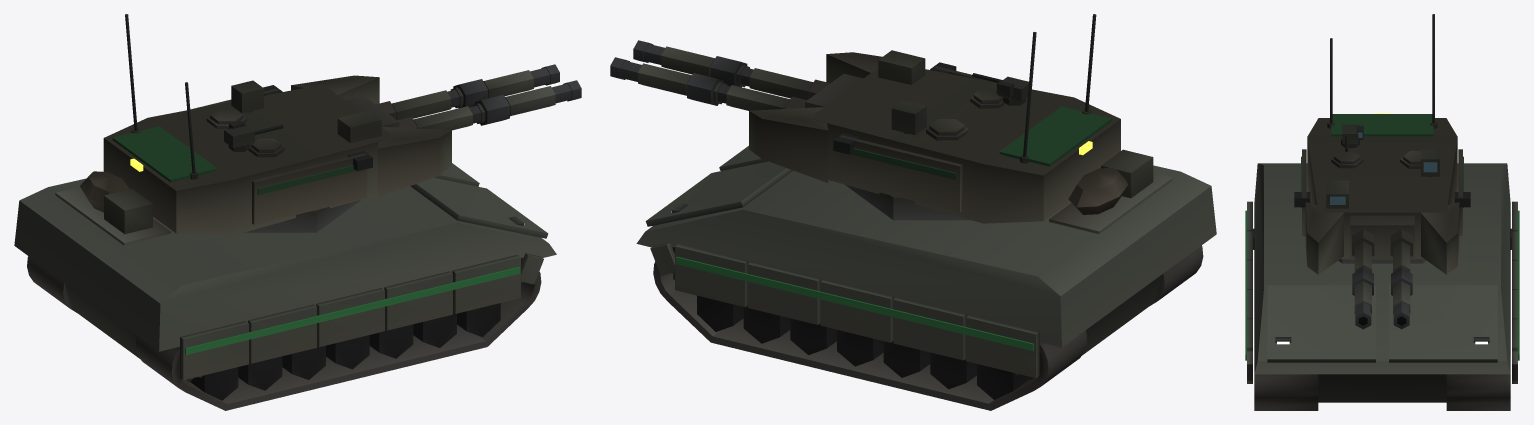
File: u_heavy_lod1.glb
3 views of the same model, side by side, from view 1: azimuth 30°, elevation 25°; view 2: azimuth 150°, elevation 25°; view 3: azimuth 270°, elevation 25° (orthographic). The views are drawn at different scales.
Parts seen in each view (by area): view 1: Heavy_LOD1_Walls, Heavy_LOD1_turret, Heavy_LOD1_Foundation, Heavy_LOD1_Details; view 2: Heavy_LOD1_Walls, Heavy_LOD1_turret, Heavy_LOD1_Foundation, Heavy_LOD1_Details; view 3: Heavy_LOD1_Walls, Heavy_LOD1_turret, Heavy_LOD1_Foundation, Heavy_LOD1_Details.
Part boxes in pixels (x1,y1,x2,y2): Heavy_LOD1_Walls: [14, 163, 556, 380]; Heavy_LOD1_turret: [55, 14, 581, 245]; Heavy_LOD1_Foundation: [27, 256, 541, 410]; Heavy_LOD1_Details: [185, 216, 524, 354]; Heavy_LOD1_Walls: [636, 146, 1216, 377]; Heavy_LOD1_turret: [610, 14, 1172, 234]; Heavy_LOD1_Foundation: [653, 245, 1203, 410]; Heavy_LOD1_Details: [671, 203, 1033, 351]; Heavy_LOD1_Walls: [1247, 163, 1517, 402]; Heavy_LOD1_turret: [1294, 14, 1470, 329]; Heavy_LOD1_Foundation: [1254, 211, 1510, 410]; Heavy_LOD1_Details: [1245, 210, 1519, 360].
Size of the model in its own units: 1.53 by 0.9804 by 0.856.
